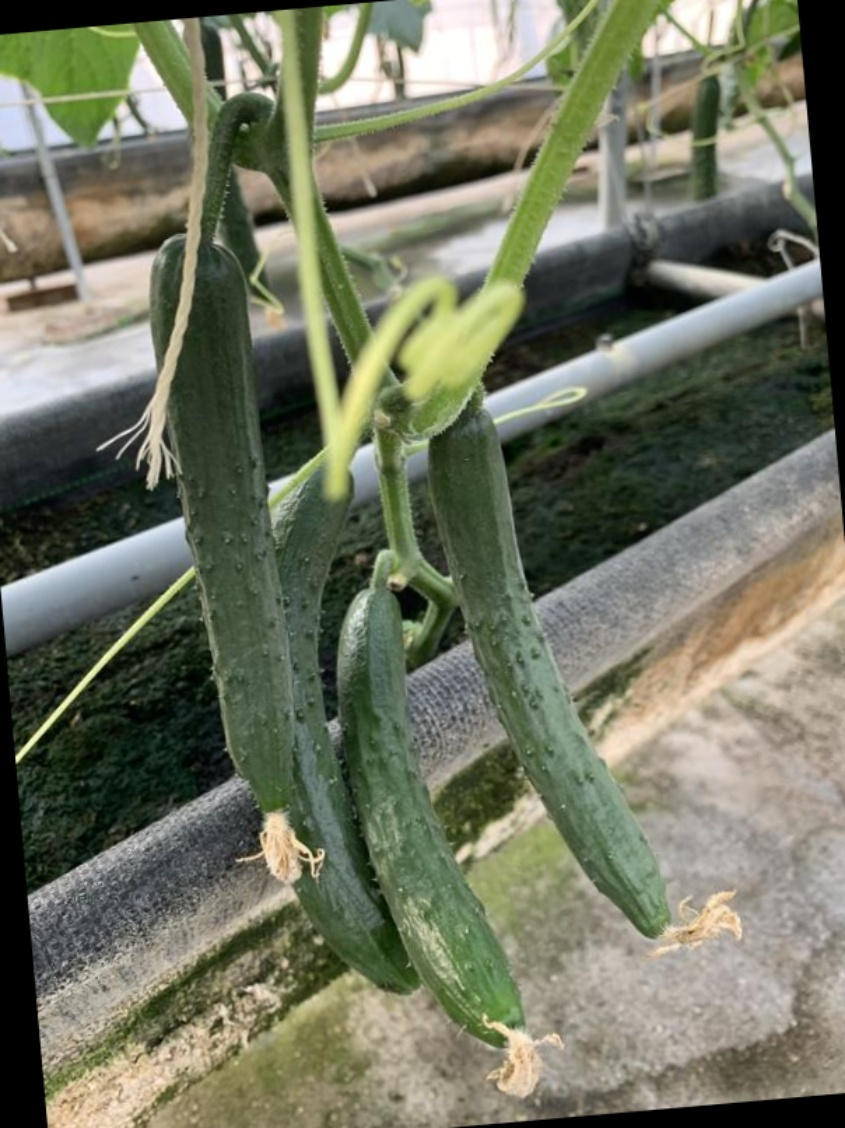mature: (251, 457, 413, 1001)
